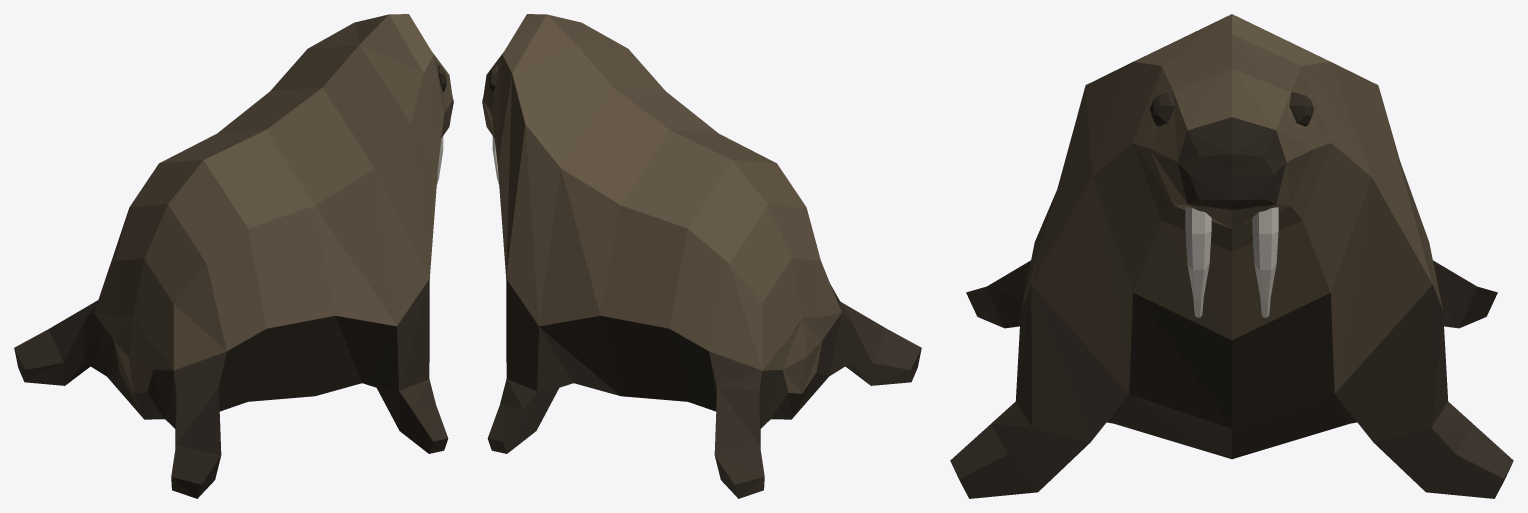
Rendered from walrus.glb.
3 renders of one model, left to right at view 1: azimuth 30°, elevation 25°; view 2: azimuth 150°, elevation 25°; view 3: azimuth 270°, elevation 25°, orthographic. The views are drawn at different scales.
Size of the model in its own units: 1 by 1 by 1.
